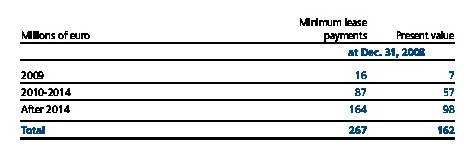table: (0, 0, 473, 156)
